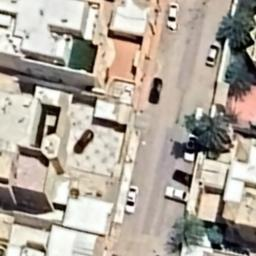sedan: (71, 128, 96, 156), (147, 74, 164, 107), (163, 184, 191, 204), (204, 39, 220, 71), (164, 1, 179, 34), (124, 184, 139, 216), (170, 168, 194, 187), (184, 134, 198, 162), (192, 106, 206, 134)
